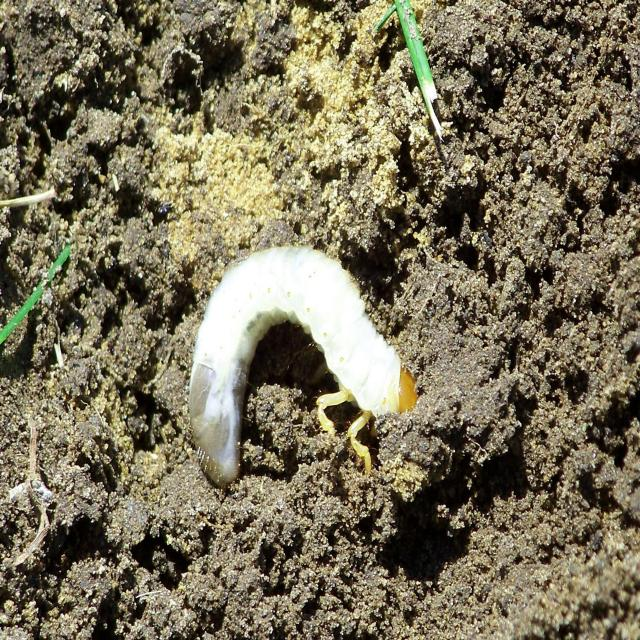grub: (185, 250, 438, 498)
